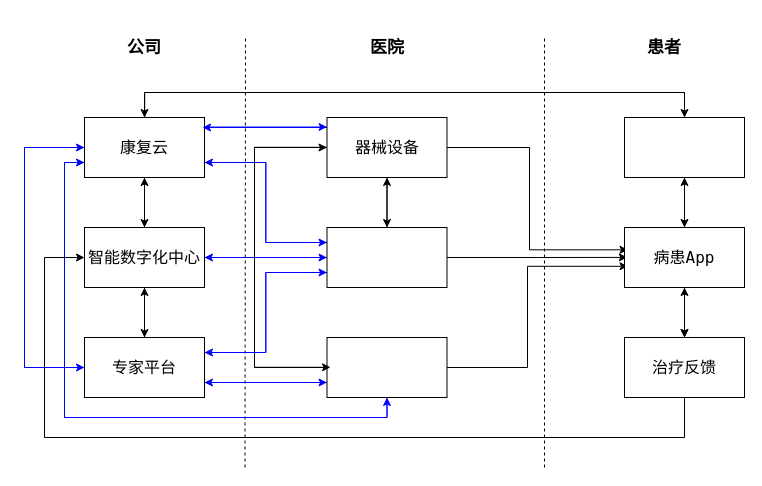
Image size: 762x486. Some labels were removed from this diagram. The box of each missing label's shape, as (x1, y1, x2, y2) in pixels:
家庭设备: (624, 116, 744, 178)
康复管理系统: (326, 226, 447, 288)
糖足康复系统: (326, 336, 447, 398)
